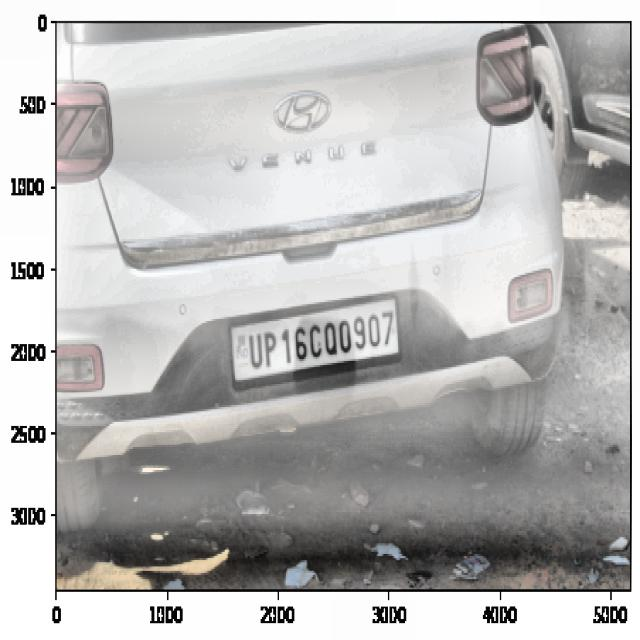license_plate: (243, 304, 398, 373)
